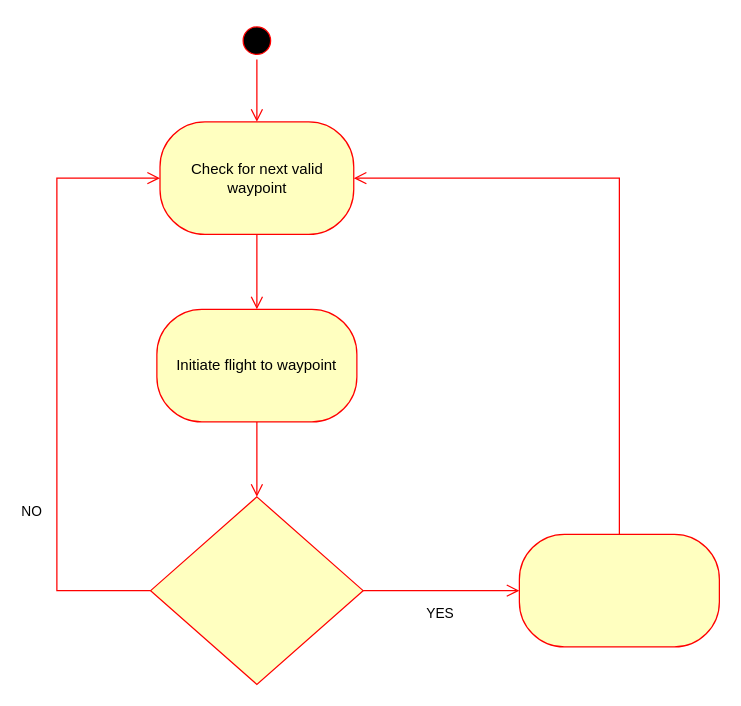
Image size: 741x706. Some labels were removed from this diagram. Each missing label, with the centre of its shape:
At selected waypoint?: the point at 256,590
Change visit flag to true: the point at 618,590
